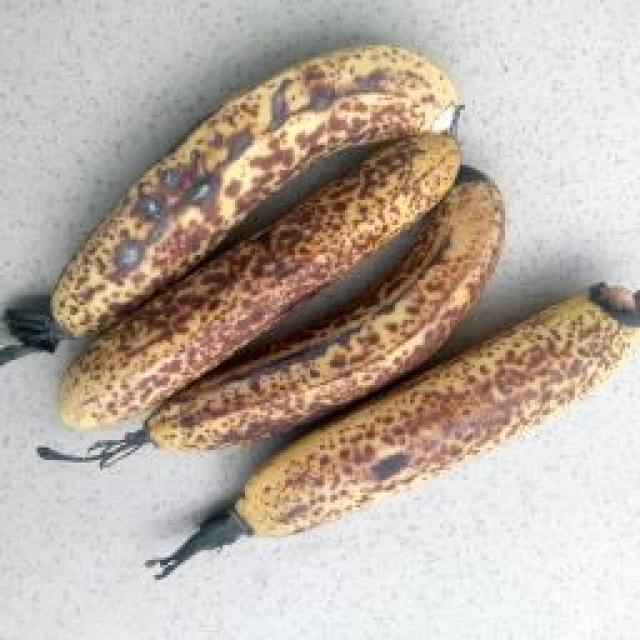banana: (134, 141, 594, 569)
